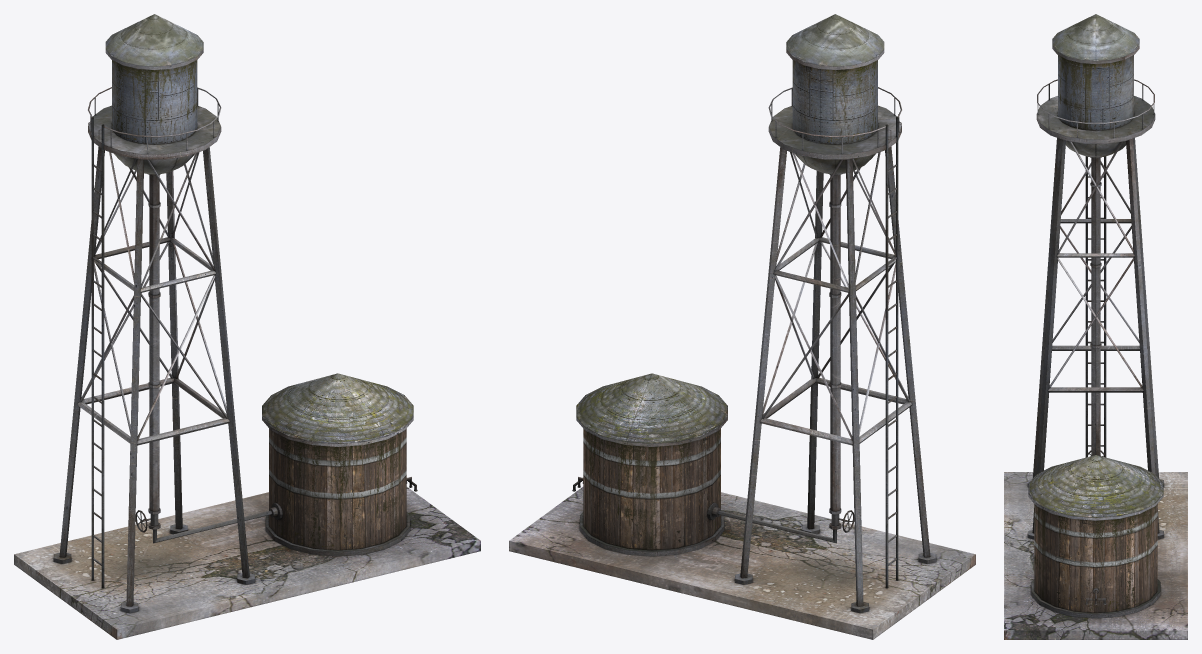
3 views of the same model, side by side, from view 1: azimuth 30°, elevation 25°; view 2: azimuth 150°, elevation 25°; view 3: azimuth 270°, elevation 25° (orthographic). The views are drawn at different scales.
Visible parts, largest first — view 1: Old_Water_Tank_T_Old_Water_Tank_0; view 2: Old_Water_Tank_T_Old_Water_Tank_0; view 3: Old_Water_Tank_T_Old_Water_Tank_0.
Part boxes in pixels (x1,y1,x2,y2): Old_Water_Tank_T_Old_Water_Tank_0: [14, 14, 480, 639]; Old_Water_Tank_T_Old_Water_Tank_0: [509, 14, 975, 639]; Old_Water_Tank_T_Old_Water_Tank_0: [1004, 14, 1187, 639].
Bounding box in the file's own units: 14.51 × 21.59 × 7.1.
1 material, 1 textured.
